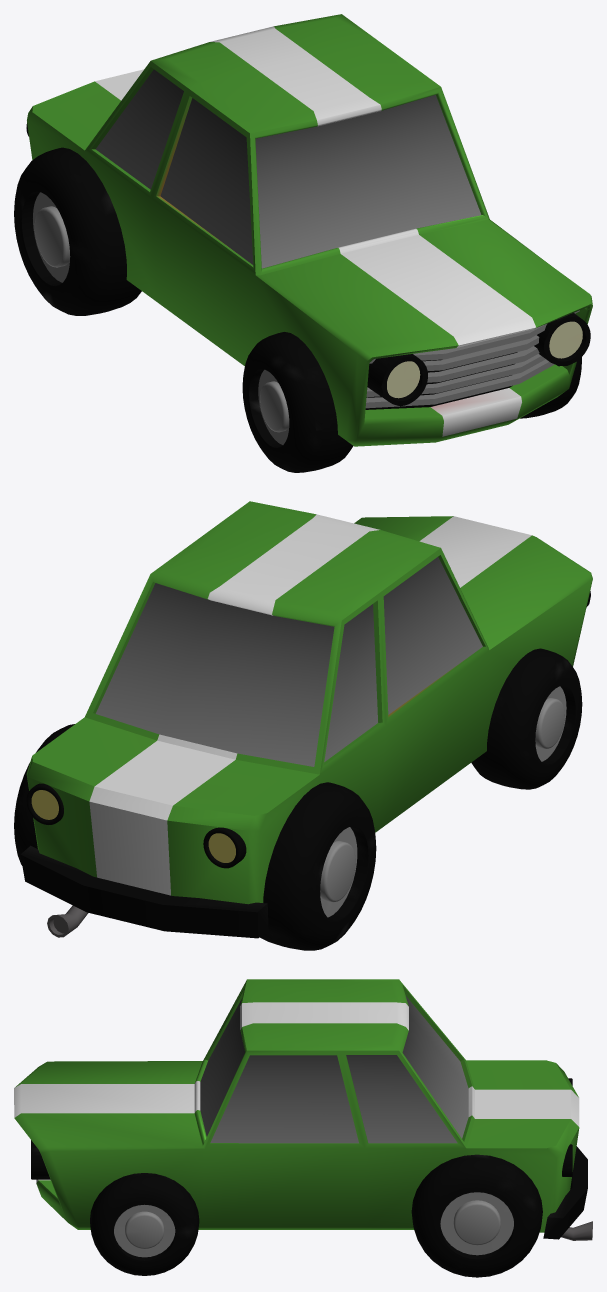
Rendered from carro4.fbx.
The picture shows the model from 3 angles, top to bottom: view 1: azimuth 30°, elevation 25°; view 2: azimuth 150°, elevation 25°; view 3: azimuth 270°, elevation 25°; orthographic projection. The views are drawn at different scales.
Visible parts, largest first — view 1: Carro.Verde; view 2: Carro.Verde; view 3: Carro.Verde.
Boxes of the visible parts, x1,y1,x2,y2 form: Carro.Verde: (14,14,592,472); Carro.Verde: (14,501,592,950); Carro.Verde: (14,979,592,1277).
Bounding box in the file's own units: 254 × 230 × 557.
